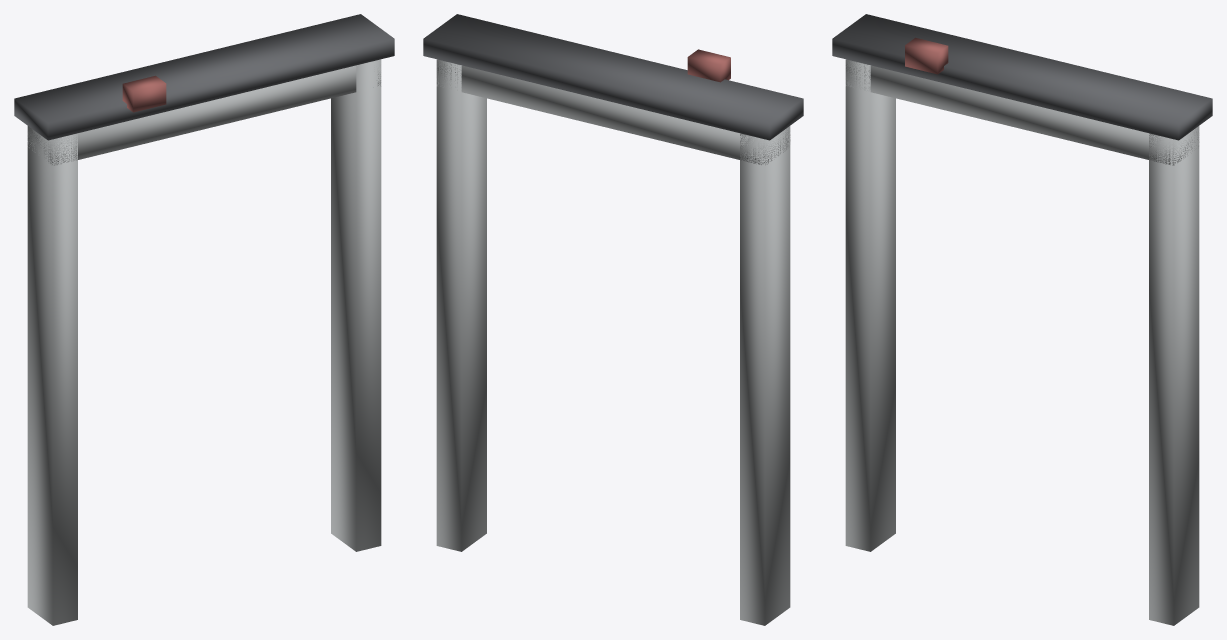
The model's file is doorway_fire_rated_w152_h240_d24.glb.
3 views of the same model, side by side, from view 1: azimuth 30°, elevation 25°; view 2: azimuth 150°, elevation 25°; view 3: azimuth 330°, elevation 25° (orthographic).
Visible parts, largest first — view 1: world; view 2: world; view 3: world.
Boxes of the visible parts, x1=… form: world: x1=14, y1=14, x2=394, y2=625; world: x1=423, y1=14, x2=803, y2=625; world: x1=832, y1=14, x2=1212, y2=625.
Size of the model in its own units: 1.89 by 2.74 by 0.38.
